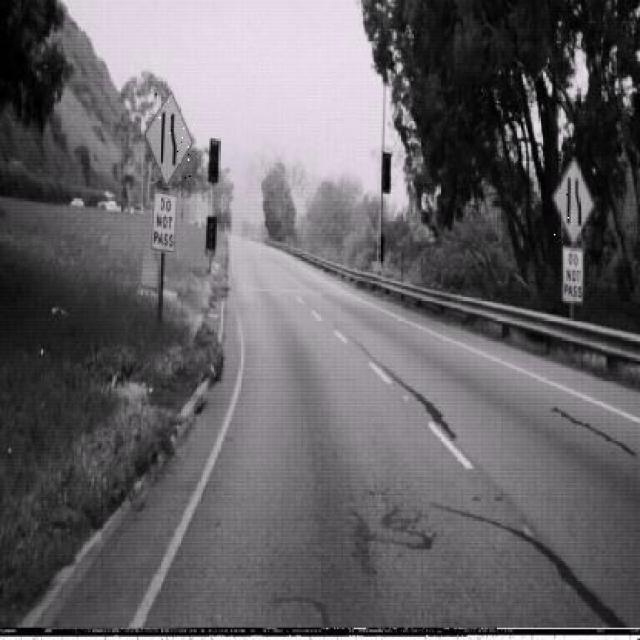laneEnds: (144, 89, 192, 188), (552, 156, 596, 244)
